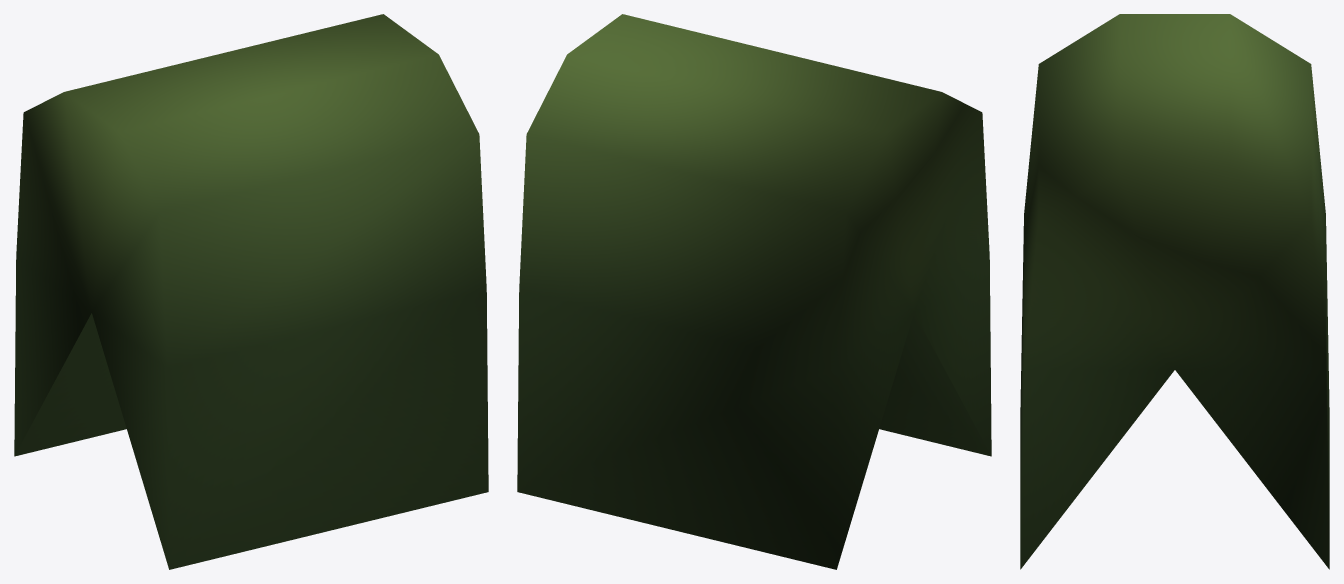
File: hedge-1m-lod1.glb
3 renders of one model, left to right at view 1: azimuth 30°, elevation 25°; view 2: azimuth 150°, elevation 25°; view 3: azimuth 270°, elevation 25°, orthographic.
Visible parts, largest first — view 1: Hedge1m_LOD1; view 2: Hedge1m_LOD1; view 3: Hedge1m_LOD1.
Part boxes in pixels (x1,y1,x2,y2): Hedge1m_LOD1: [14, 14, 488, 569]; Hedge1m_LOD1: [517, 14, 991, 569]; Hedge1m_LOD1: [1020, 14, 1329, 569].
Size of the model in its own units: 1 by 1.2 by 0.84.
